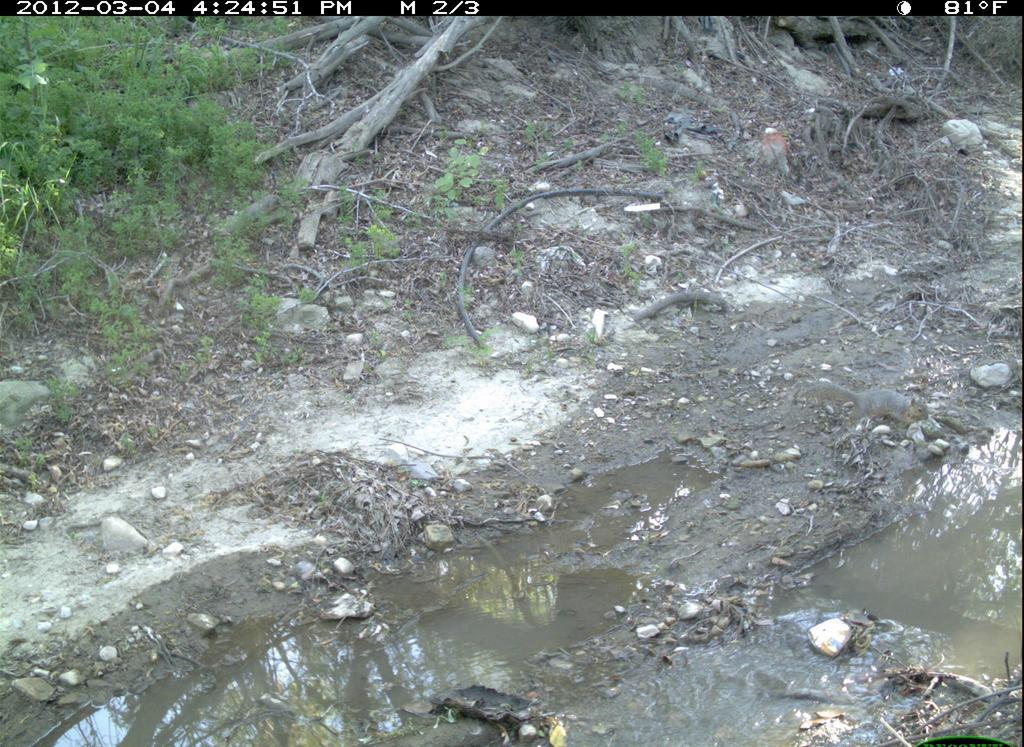squirrel: (798, 359, 937, 450)
